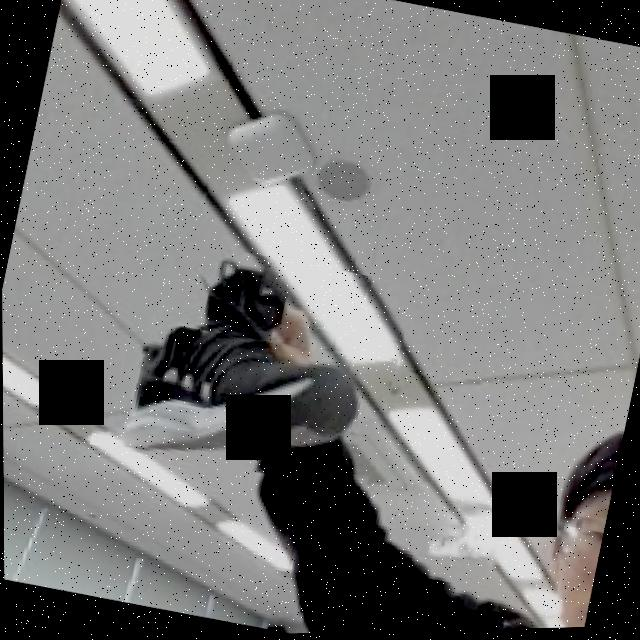shoe: (87, 227, 416, 505)
